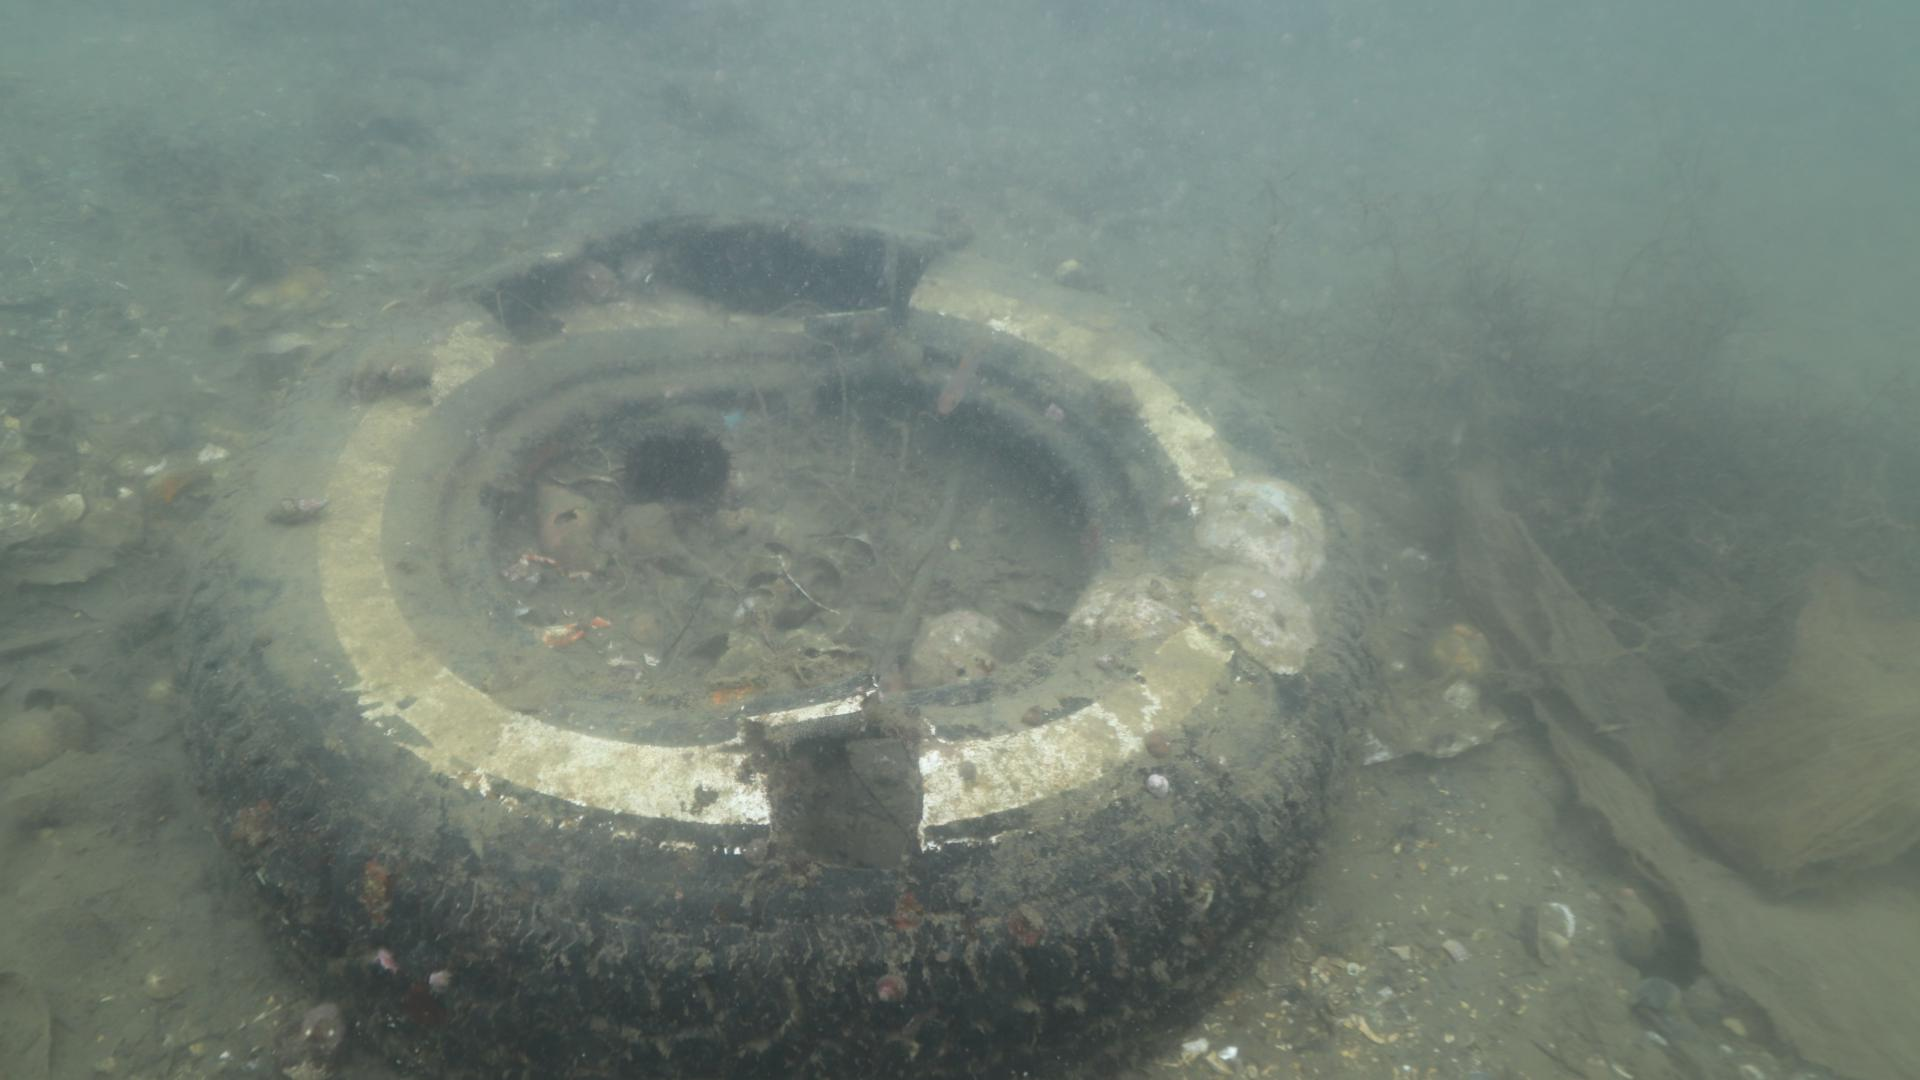tire: (167, 207, 1375, 1075)
